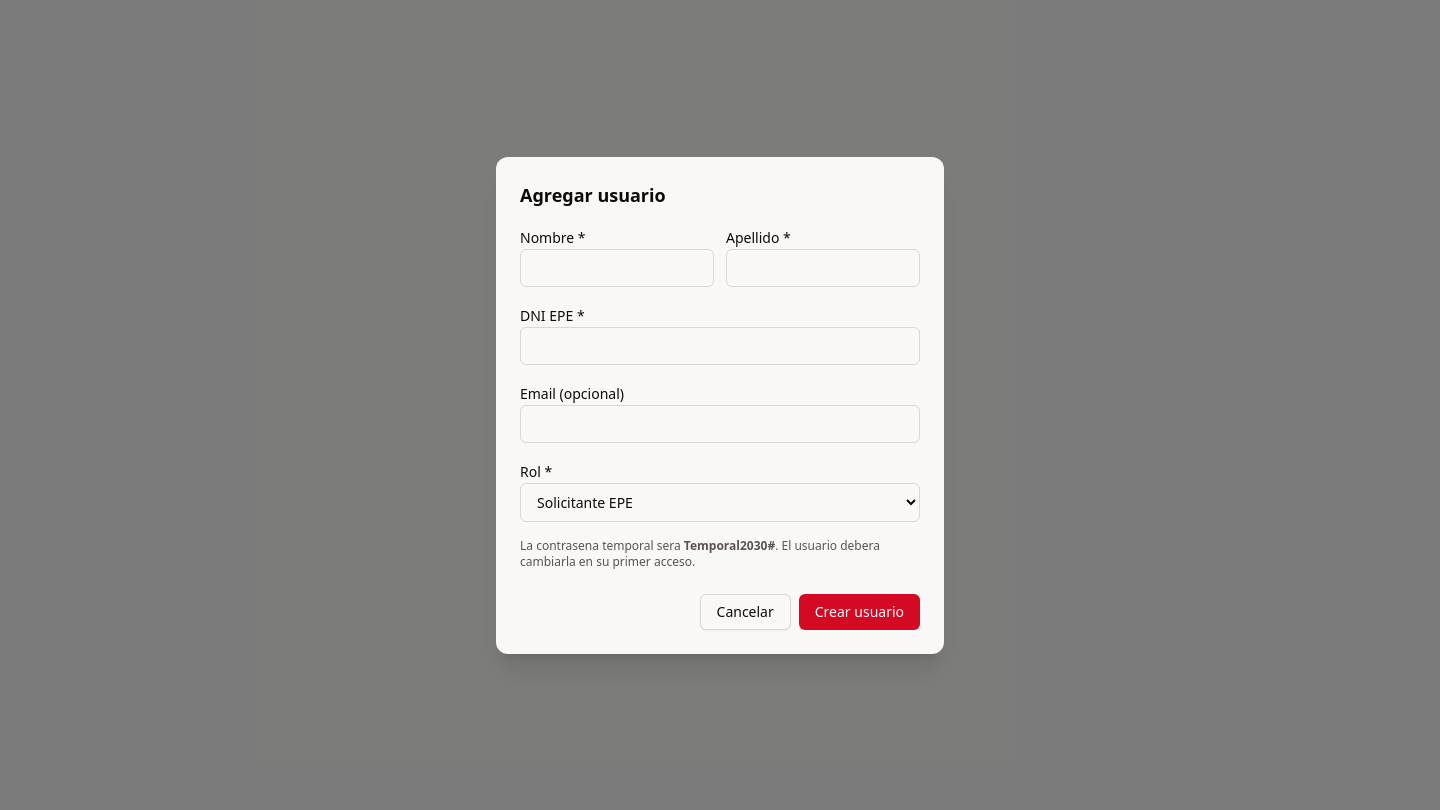
Test: CreateUserModal role options › sanitiza DNI pegado y limita a 8 dígitos
Type "12ab3456789" into the field labelled "DNI EPE *". click: (720, 346)
box: left=520, top=326, right=920, bottom=364
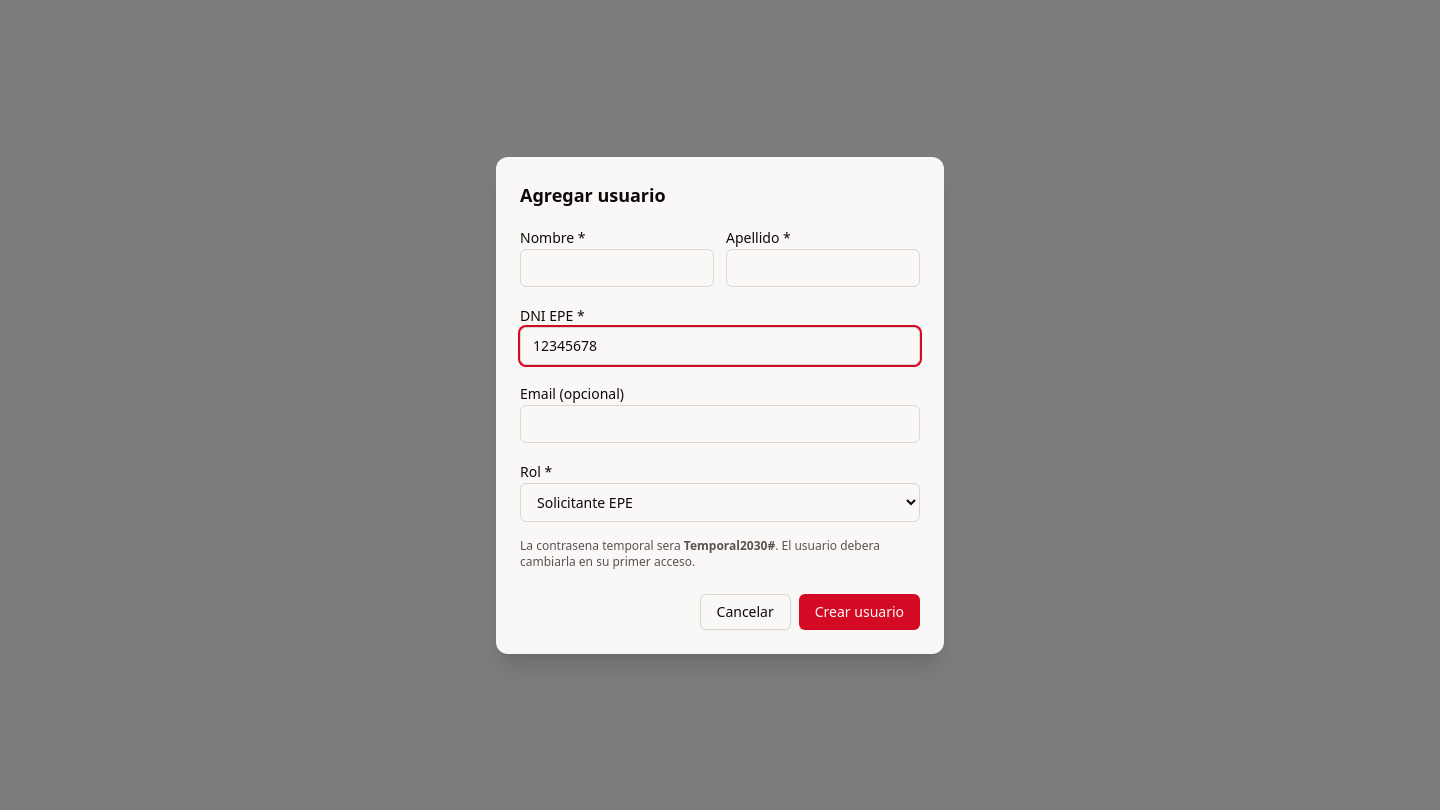
Check: the field labelled "DNI EPE *" holds "12345678", box left=520, top=326, right=920, bottom=364
